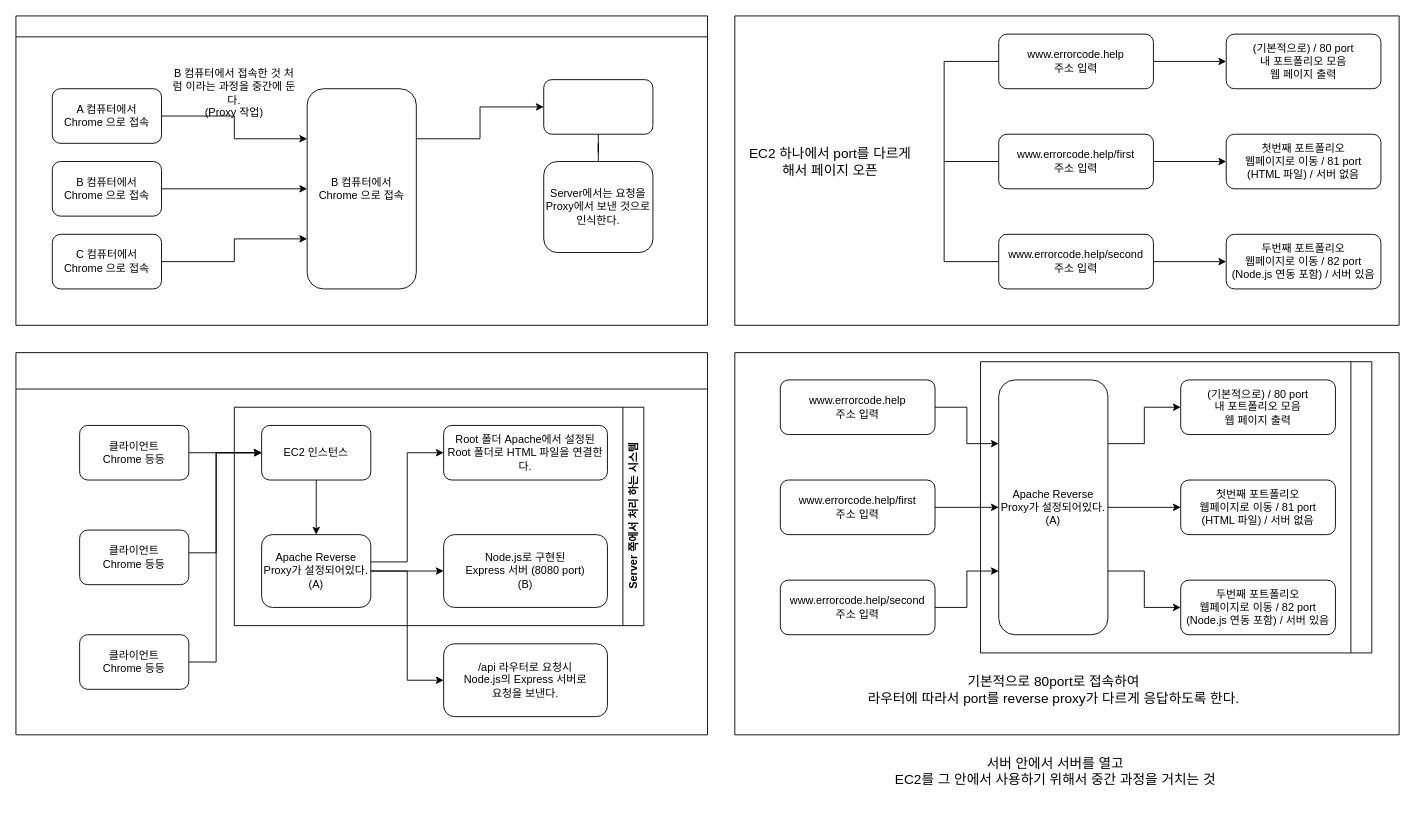
This 1415x814 diagram has some shape labels left out. Here are the shapes that lost their labels. From the top down, the box of each, then its label:
(543, 79, 653, 134): Server
(15, 15, 708, 325): Proxy 이용 시 서버와의 통신
(980, 361, 1372, 653): Server 1EA
(15, 352, 708, 735): EC2 인스턴스에서 요청을 받았을 때 React, Node.js, mysql 기준
